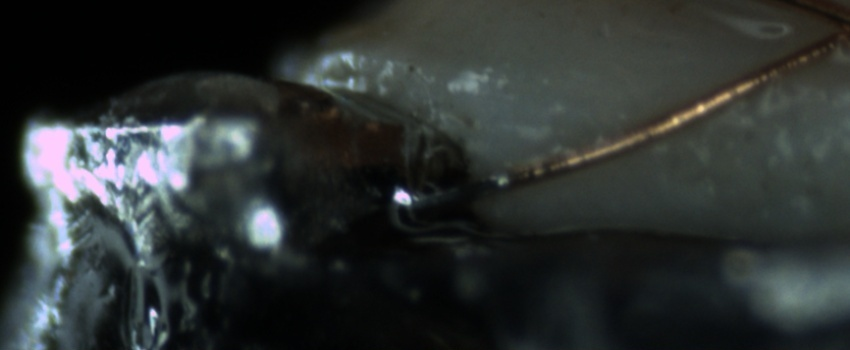CL: (798, 2, 849, 63)
